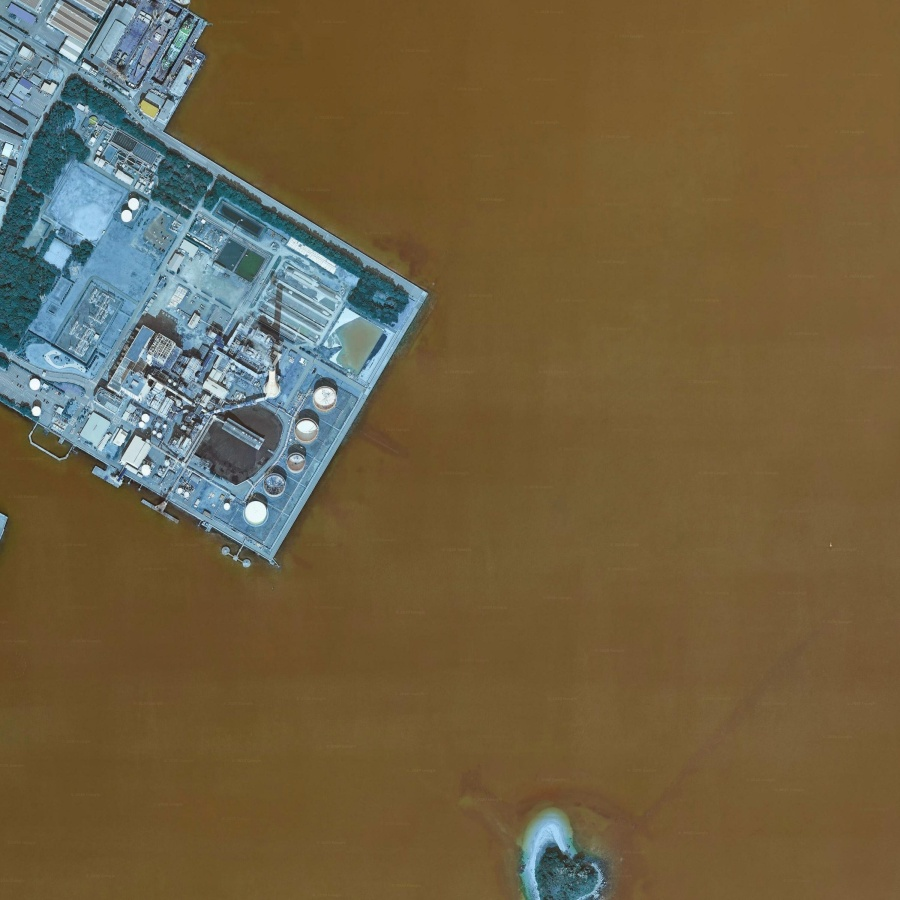PowerPlant: (23, 238, 392, 558)
